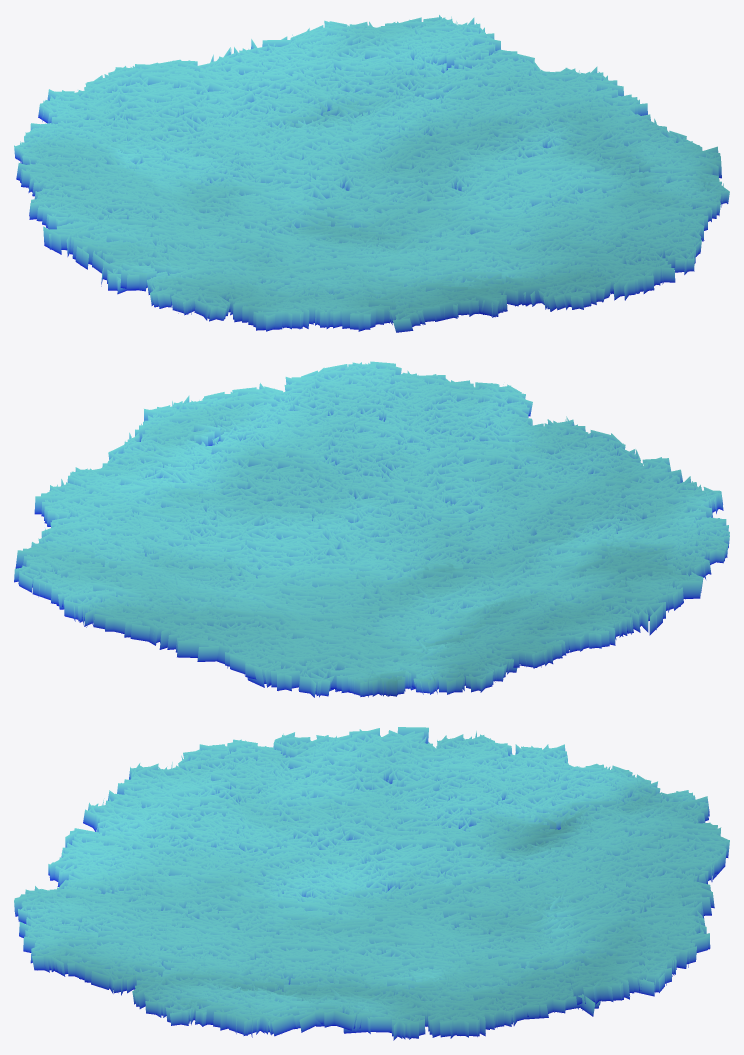
The model's file is SM_Env_Grass_Large_02.FBX.
The picture shows the model from 3 angles, top to bottom: view 1: azimuth 30°, elevation 25°; view 2: azimuth 150°, elevation 25°; view 3: azimuth 270°, elevation 25°; orthographic projection.
Visible parts, largest first — view 1: SM_Env_Grass_Large_02; view 2: SM_Env_Grass_Large_02; view 3: SM_Env_Grass_Large_02.
Part boxes in pixels (box(x1,y1,x2,y2)): SM_Env_Grass_Large_02: box(14, 15, 729, 332); SM_Env_Grass_Large_02: box(14, 361, 729, 697); SM_Env_Grass_Large_02: box(14, 727, 729, 1040).
Bounding box in the file's own units: 3310 × 3429 × 337.
